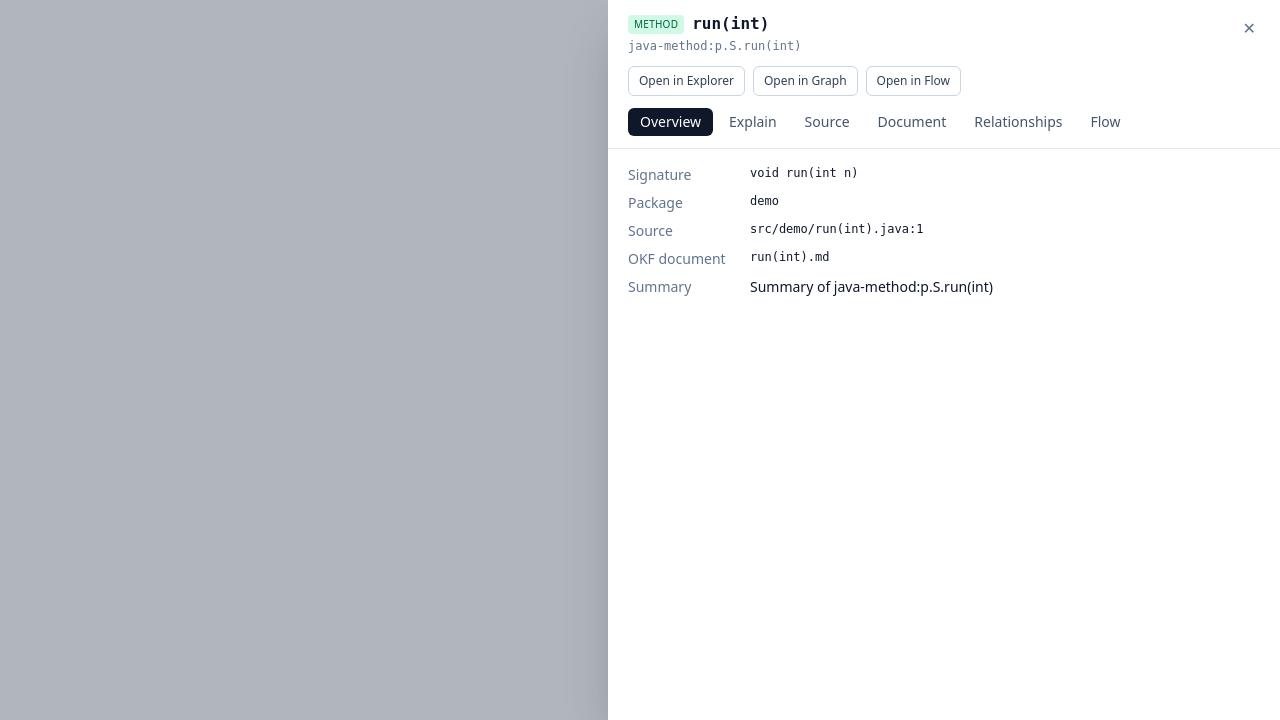
Explain Method › renders deterministic facts when the model output was invalid
The image size is (1280, 720).
Click the tab "explain": click(753, 122) left=717, top=108, right=789, bottom=136
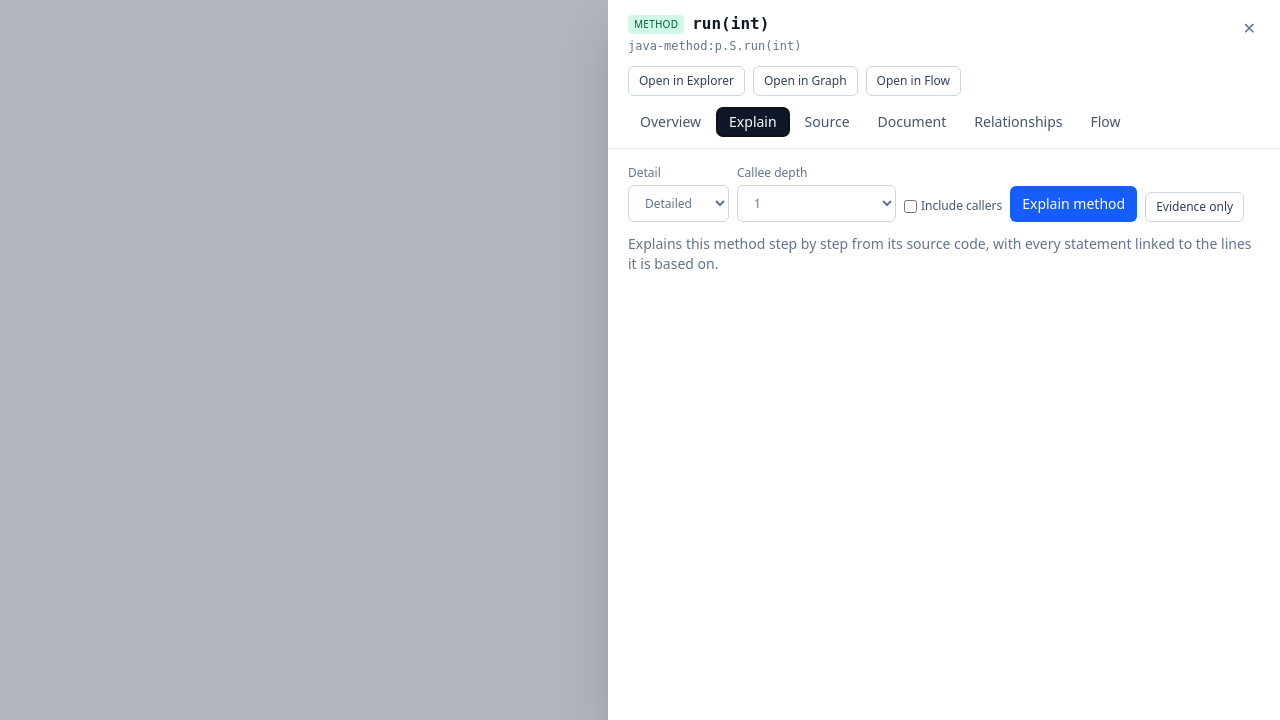
Click the button "Evidence only": click(1195, 207) left=1145, top=192, right=1244, bottom=222
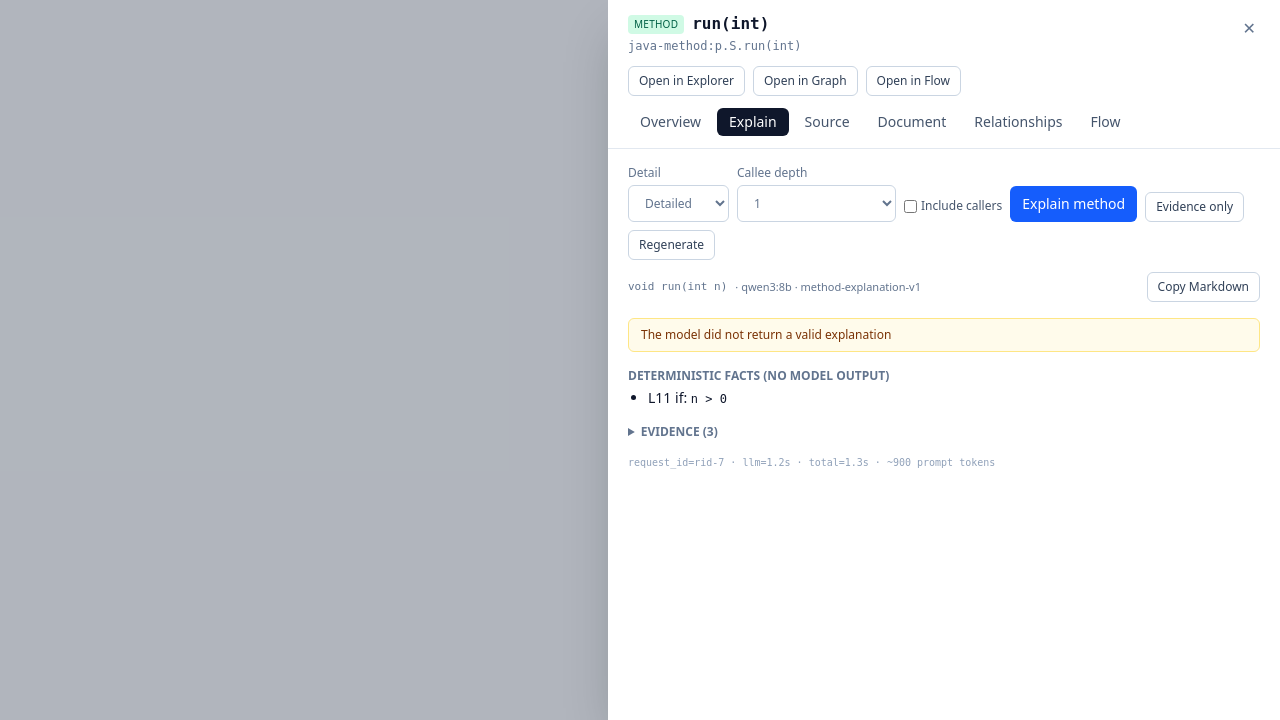
expect the heading "Deterministic facts (no model output)" is shown: met, box left=628, top=367, right=889, bottom=384
expect the text "n > 0" is shown: met, box left=691, top=392, right=727, bottom=406
